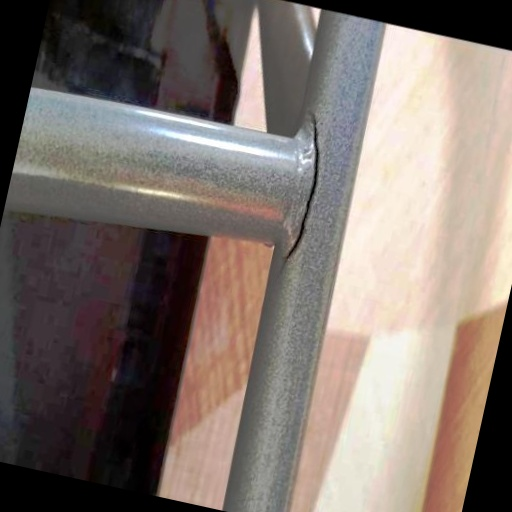crack: (257, 98, 344, 280)
